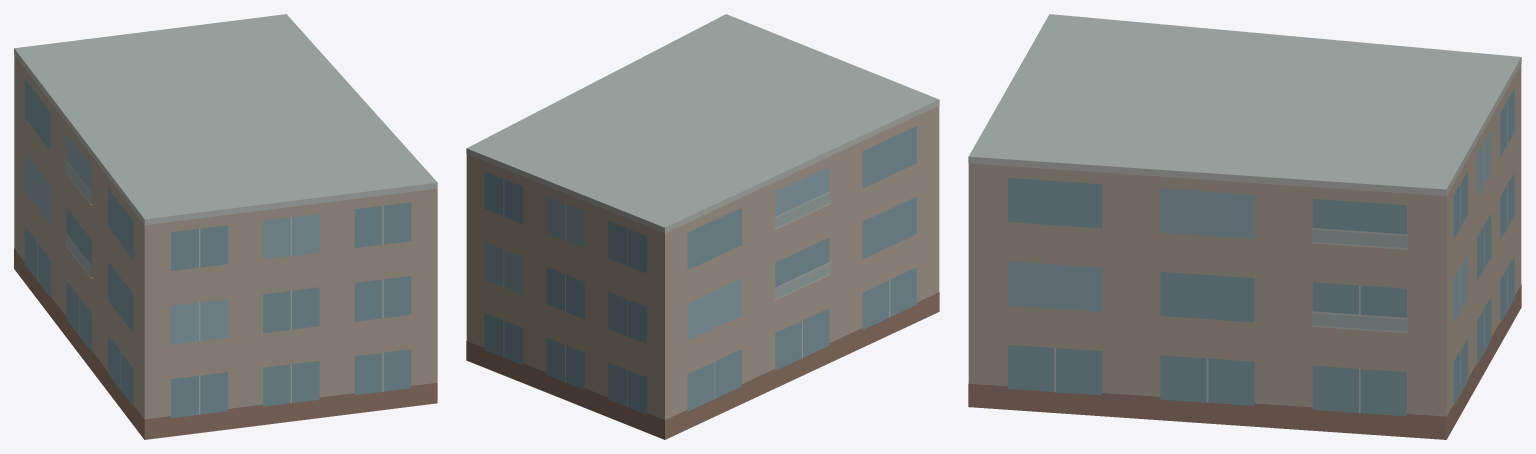
File: survey-upis-32865573.glb
The picture shows the model from 3 angles, left to right: view 1: azimuth 30°, elevation 25°; view 2: azimuth 150°, elevation 25°; view 3: azimuth 270°, elevation 25°; orthographic projection. The views are drawn at different scales.
Visible parts, largest first — view 1: survey-upis-32865573.tmp; view 2: survey-upis-32865573.tmp; view 3: survey-upis-32865573.tmp.
Boxes of the visible parts, x1,y1,x2,y2 form: survey-upis-32865573.tmp: (14,14,437,439); survey-upis-32865573.tmp: (466,14,939,439); survey-upis-32865573.tmp: (968,14,1521,439).
Bounding box in the file's own units: 13.69 × 9.1 × 18.23.
